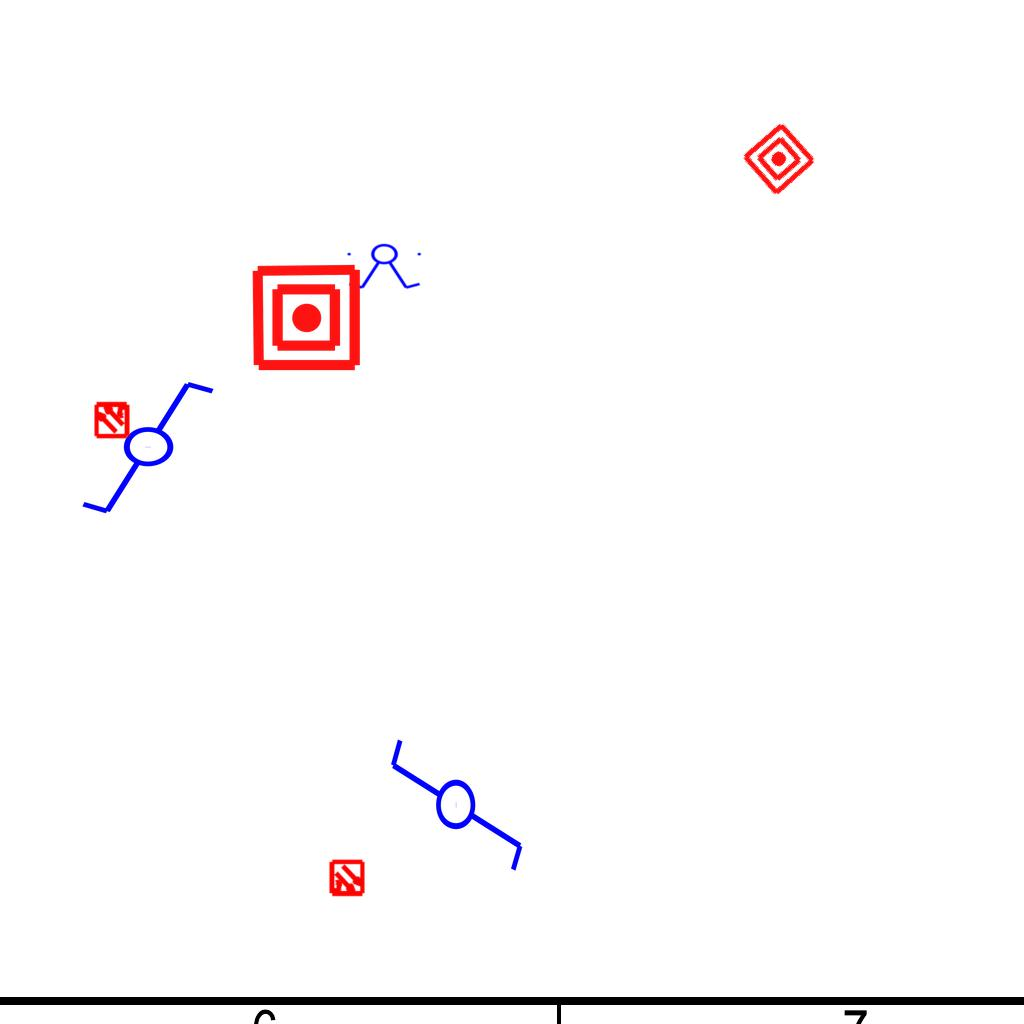NAM-Nichtautomatischer_Melder: (250, 261, 363, 374), (739, 119, 819, 199)
OT_Multisensormelder_(Kombination_RMO_WMD): (319, 851, 375, 907), (84, 391, 140, 447)
Serienschalter: (343, 243, 427, 291)
Wechselschalter: (386, 718, 530, 875), (78, 377, 235, 521)
